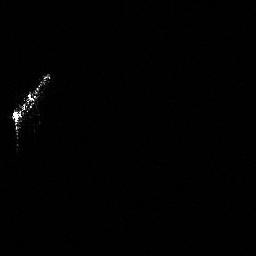ship: (9, 70, 53, 146)
